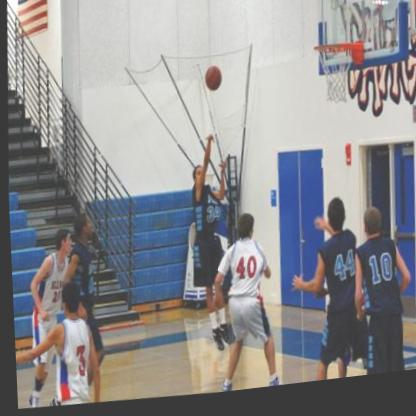basketball: (203, 69, 223, 98)
rim: (312, 47, 351, 65)
